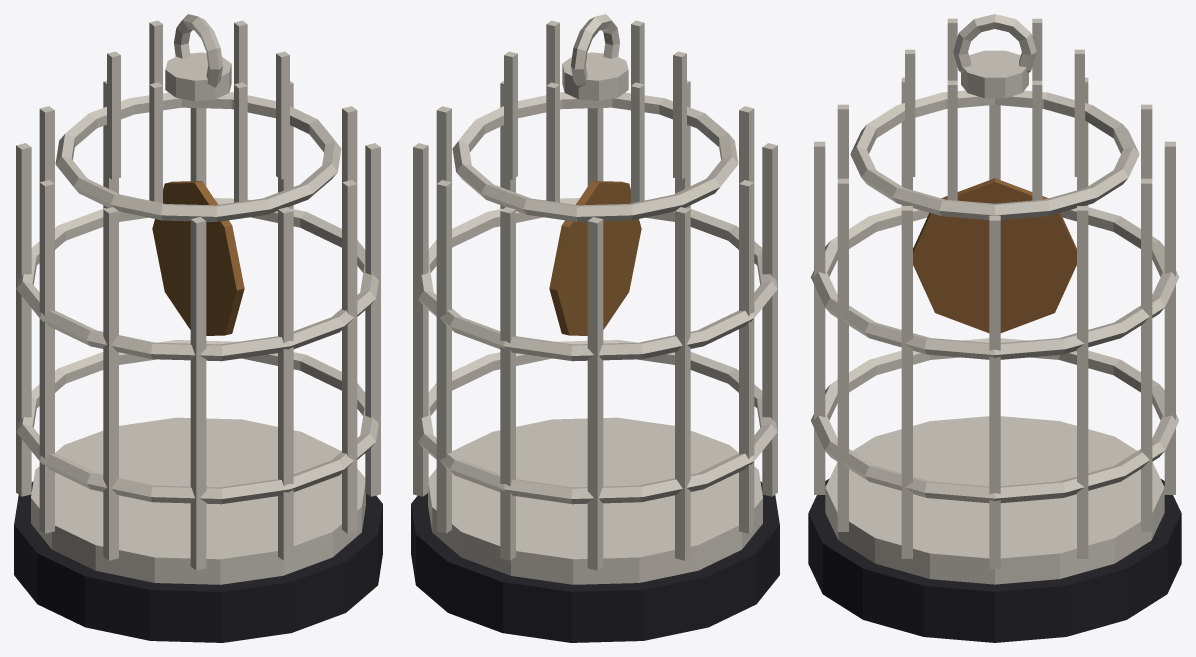
Rendered from bird_cage.glb.
3 renders of one model, left to right at view 1: azimuth 30°, elevation 25°; view 2: azimuth 150°, elevation 25°; view 3: azimuth 270°, elevation 25°, orthographic.
Visible parts, largest first — view 1: bird_cage; view 2: bird_cage; view 3: bird_cage.
Part boxes in pixels (box(x1,y1,x2,y2)): bird_cage: box(14, 14, 382, 642); bird_cage: box(411, 14, 779, 642); bird_cage: box(808, 14, 1181, 642).
Bounding box in the file's own units: 0.33 × 0.537 × 0.33.
